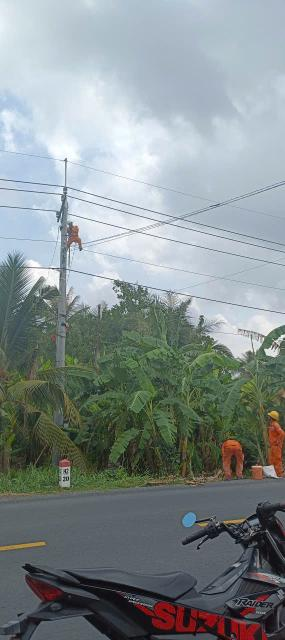gloves: (57, 225, 65, 232), (68, 225, 74, 229)
harness: (68, 234, 79, 238)
helmet: (266, 408, 280, 420), (66, 221, 77, 224)
shoes: (223, 474, 235, 483), (275, 473, 285, 481), (235, 474, 246, 481), (81, 248, 85, 252)
